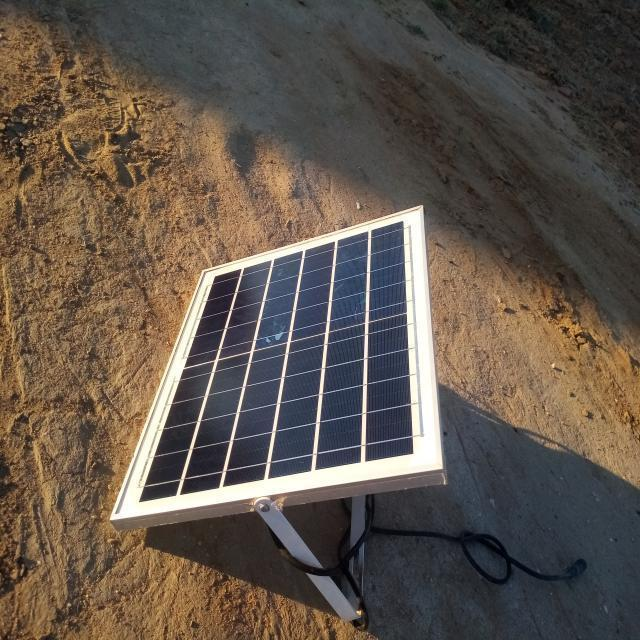Normal Solar Panel: (113, 206, 444, 519)
